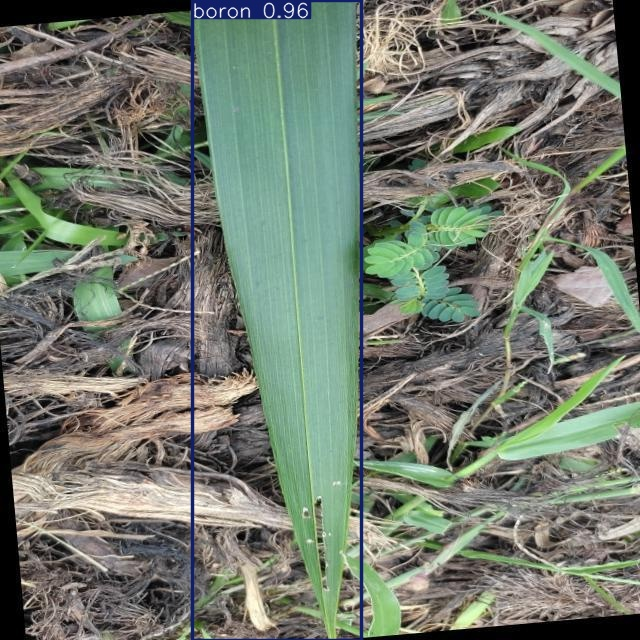nitrogen: (193, 0, 362, 640)
